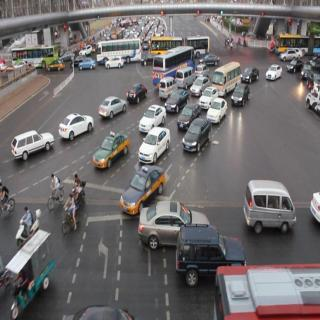BigCar: (151, 42, 199, 90), (5, 43, 61, 74), (97, 36, 143, 65)
Car: (177, 222, 244, 274), (244, 179, 297, 236), (119, 164, 163, 211), (136, 204, 178, 248), (93, 132, 129, 168), (180, 120, 212, 155), (10, 134, 56, 158), (138, 128, 169, 162), (58, 110, 95, 138), (137, 103, 168, 128), (99, 97, 126, 122), (212, 65, 241, 87), (207, 98, 228, 126), (125, 80, 147, 106), (176, 64, 196, 88), (232, 85, 250, 107), (242, 63, 260, 83), (164, 93, 182, 113), (265, 66, 283, 84), (287, 58, 302, 77), (49, 57, 66, 73), (191, 76, 204, 94), (77, 62, 96, 74), (106, 58, 124, 70), (279, 50, 299, 59), (80, 43, 92, 58)
